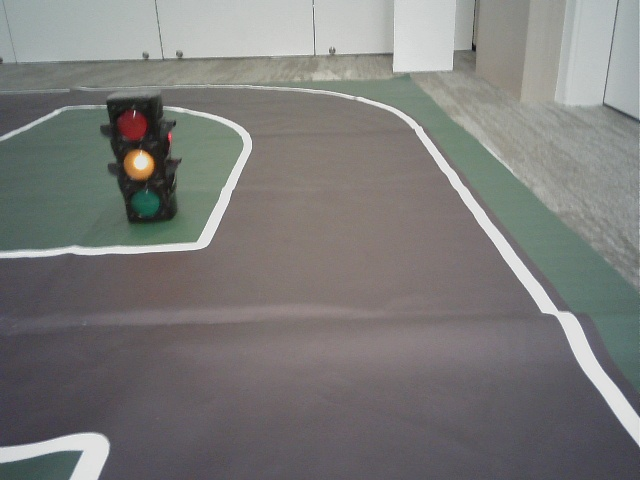yellow: (109, 105, 164, 216)
